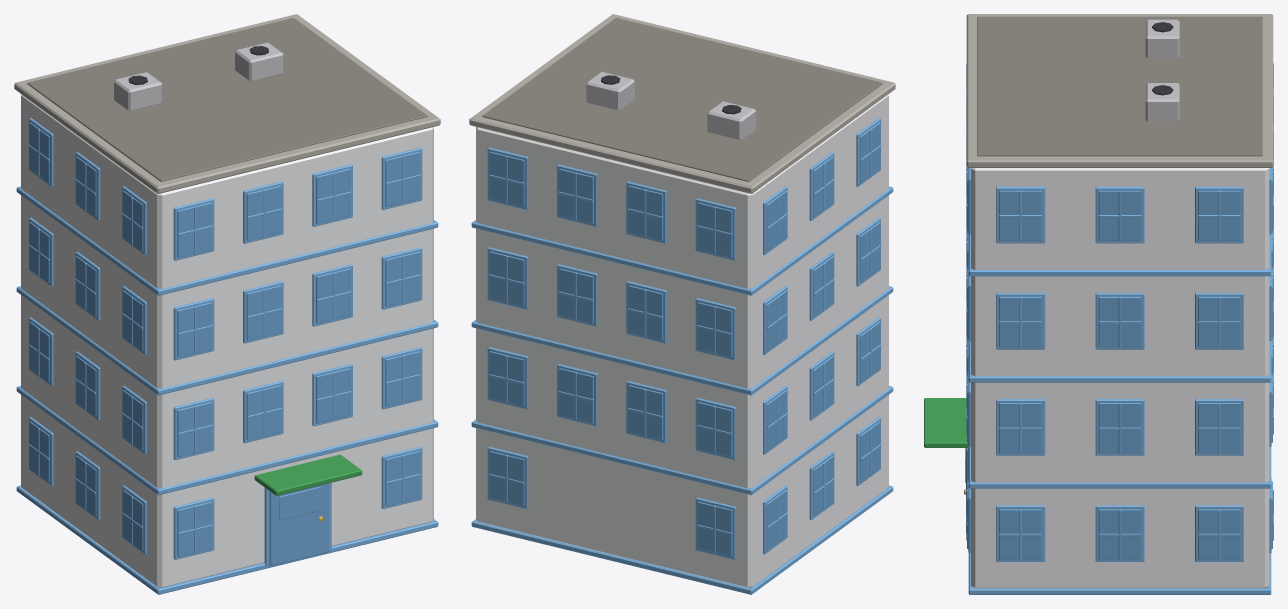
Rendered from WhiteApartment.fbx.
3 renders of one model, left to right at view 1: azimuth 30°, elevation 25°; view 2: azimuth 150°, elevation 25°; view 3: azimuth 270°, elevation 25°, orthographic. The views are drawn at different scales.
Parts seen in each view (by area): view 1: WhiteApartment; view 2: WhiteApartment; view 3: WhiteApartment.
Part boxes in pixels (bbox=[...]): WhiteApartment: bbox=[14, 14, 440, 594]; WhiteApartment: bbox=[469, 14, 895, 594]; WhiteApartment: bbox=[924, 14, 1273, 594].
Size of the model in its own units: 16.44 by 23.82 by 16.42.
1 material, 1 textured.
